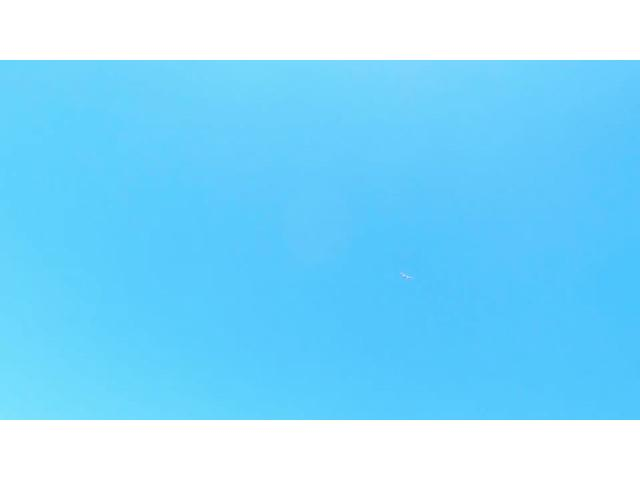Anti-Drone: (386, 260, 422, 281)
